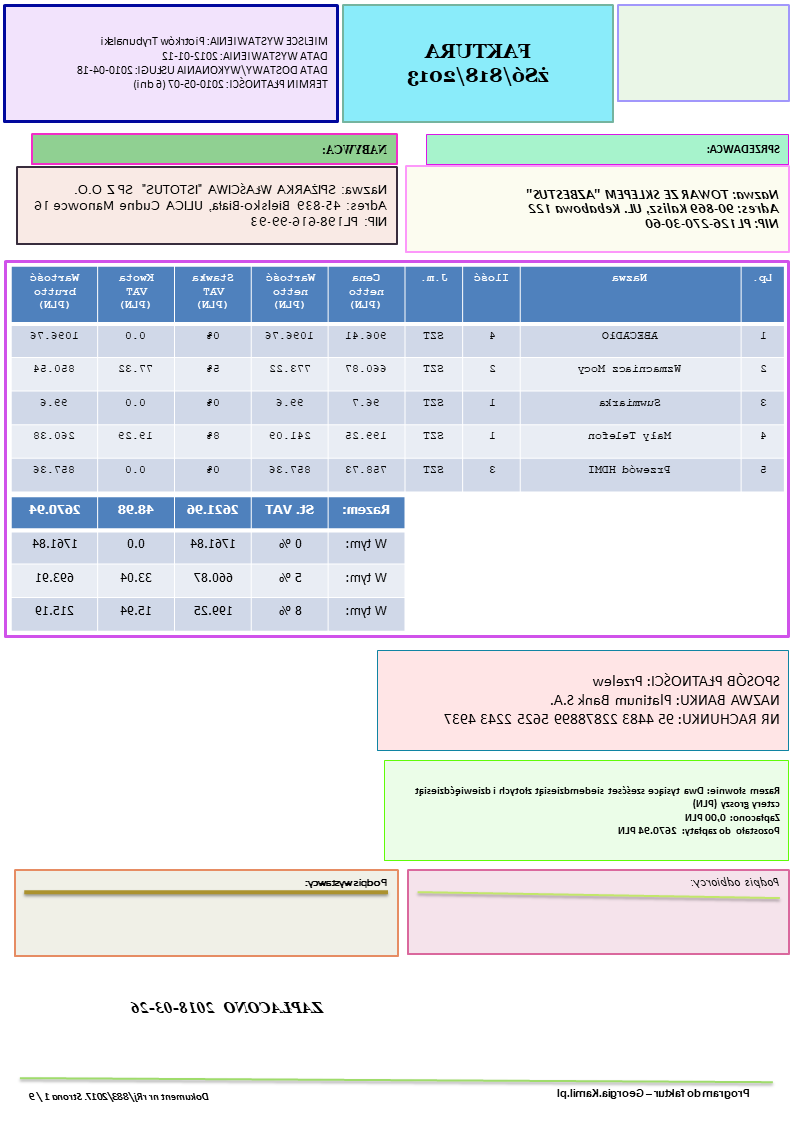Table: (10, 265, 786, 493), (11, 496, 407, 631)
TextBox: (441, 669, 782, 729), (413, 784, 783, 837), (32, 182, 391, 230), (75, 31, 331, 93), (526, 187, 782, 231), (404, 40, 553, 89), (128, 997, 328, 1017), (555, 1084, 752, 1101), (27, 1089, 211, 1106), (688, 874, 783, 892), (305, 876, 390, 891), (705, 141, 784, 157), (321, 142, 390, 158)
